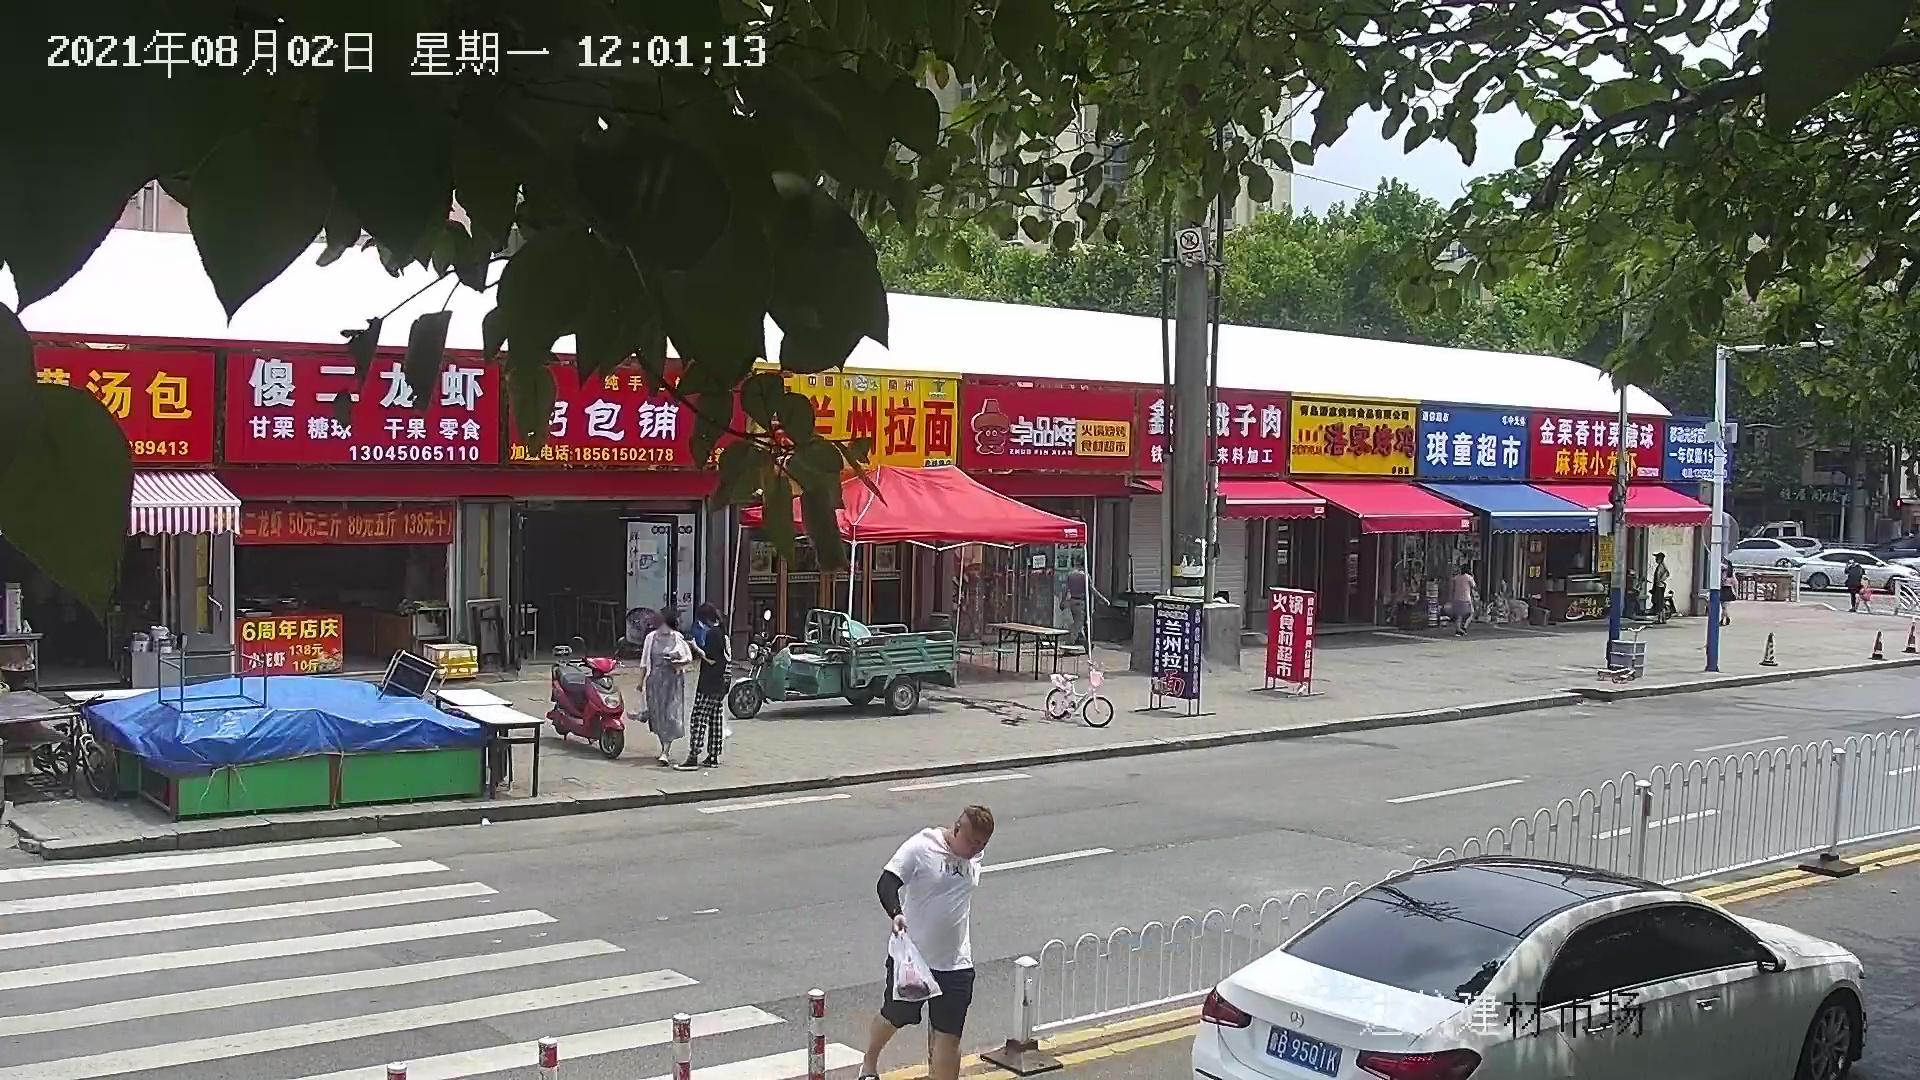chair: (959, 642, 982, 676), (1058, 646, 1081, 678), (993, 647, 1015, 676)
table: (450, 704, 549, 795), (986, 617, 1069, 680), (429, 684, 513, 705)
table_chair: (956, 615, 1084, 682)
umbrella: (735, 460, 1088, 545)
